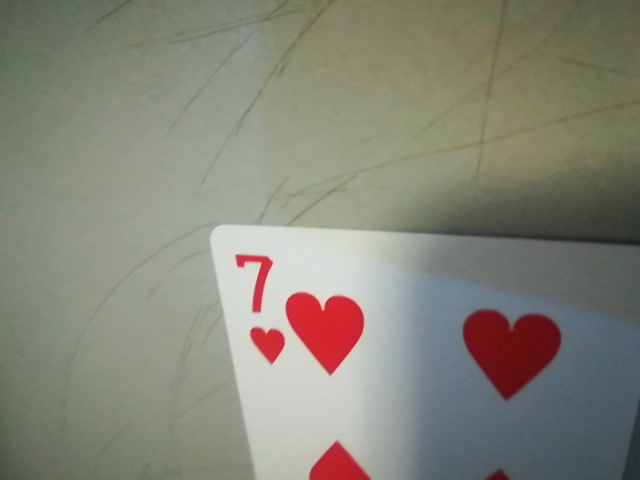hx 7: (225, 242, 285, 378)
